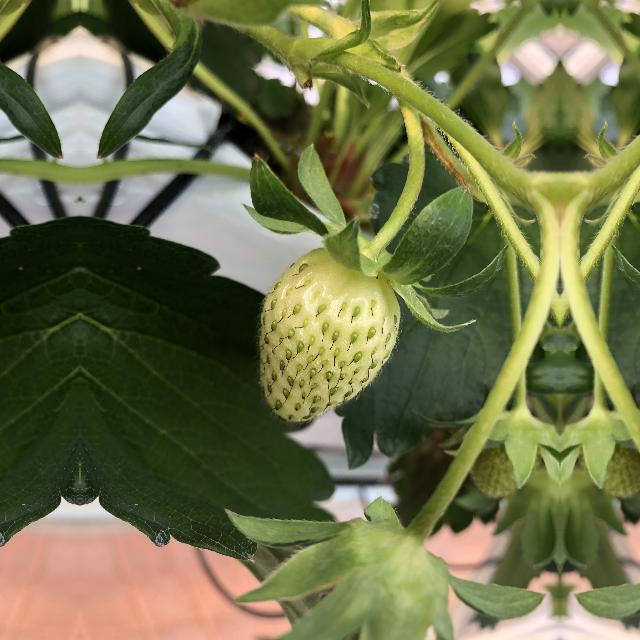Health_25: (238, 226, 416, 432)
